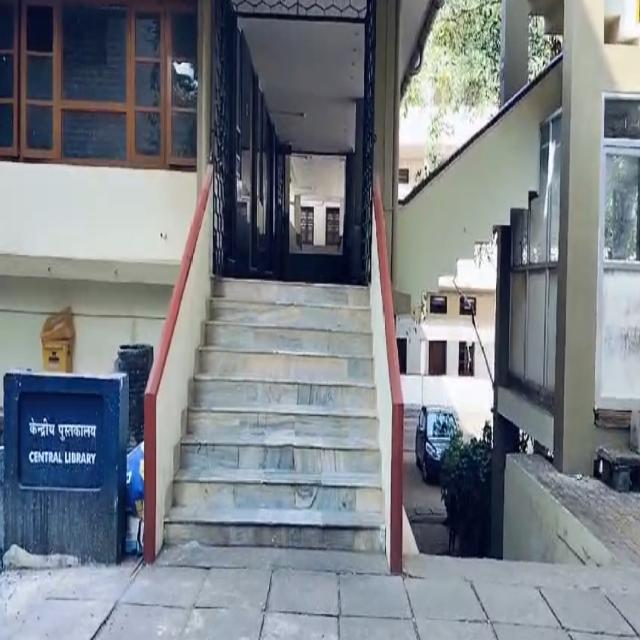stairs ahead at: (163, 277, 384, 544)
